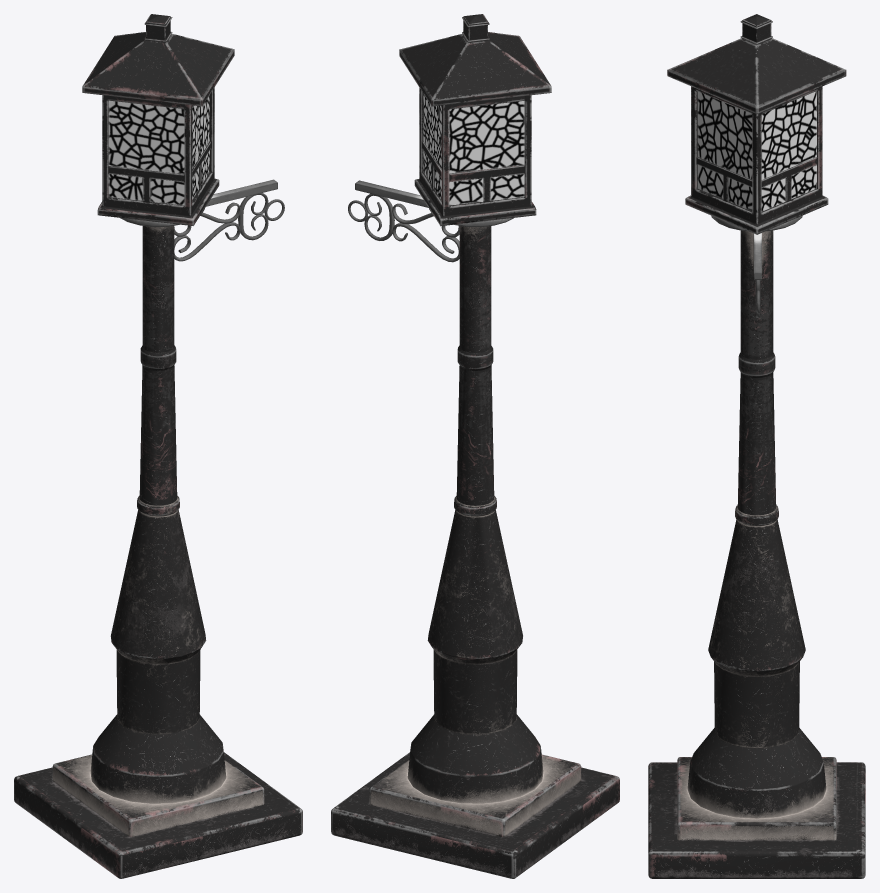
Rendered from Farola.obj.
3 renders of one model, left to right at view 1: azimuth 30°, elevation 25°; view 2: azimuth 150°, elevation 25°; view 3: azimuth 270°, elevation 25°, orthographic.
Visible parts, largest first — view 1: glass__design_HOLDER, glass__design_Lamp_int1, glass__design_glass_design; view 2: glass__design_HOLDER, glass__design_Lamp_int1, glass__design_glass_design; view 3: glass__design_HOLDER, glass__design_Lamp_int1, glass__design_glass_design.
Part boxes in pixels (<box>): glass__design_HOLDER: <box>14,226,302,878</box>; glass__design_Lamp_int1: <box>82,14,234,225</box>; glass__design_glass_design: <box>108,95,284,261</box>; glass__design_HOLDER: <box>331,226,619,878</box>; glass__design_Lamp_int1: <box>399,14,551,226</box>; glass__design_glass_design: <box>348,94,524,262</box>; glass__design_HOLDER: <box>648,230,865,878</box>; glass__design_Lamp_int1: <box>667,14,846,234</box>; glass__design_glass_design: <box>697,91,816,317</box>.
Size of the model in its own units: 3.27 by 11.45 by 2.76.
